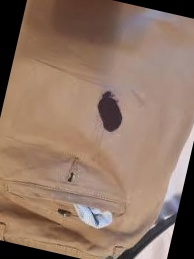ink: (92, 92, 129, 136)
